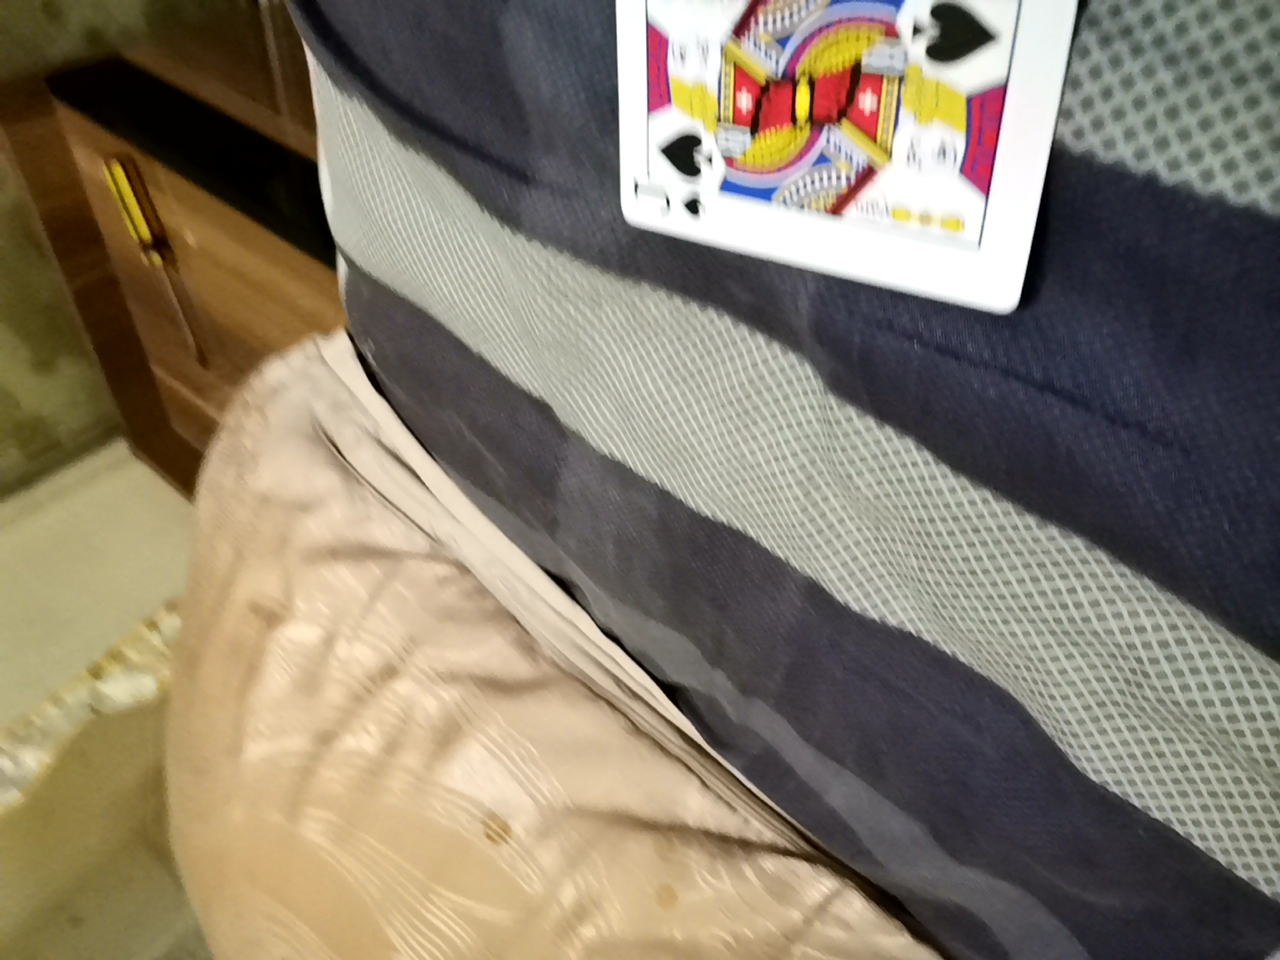ht j: (588, 0, 1086, 294)
